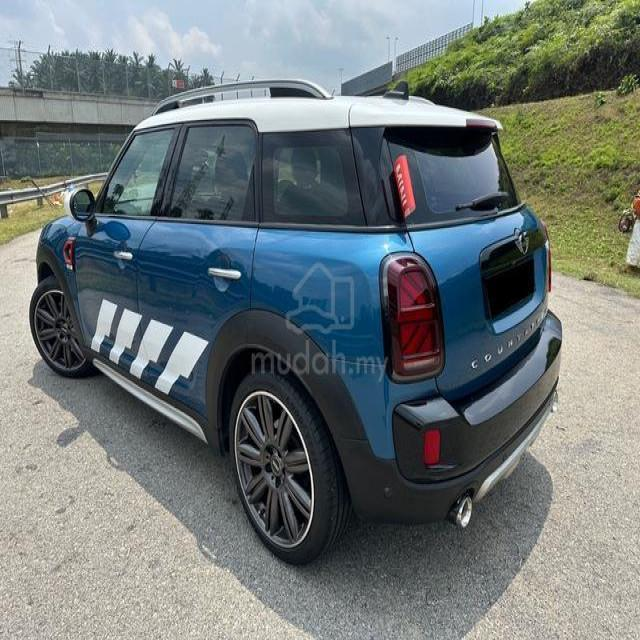PeroduaAtiva: (27, 76, 563, 566)
